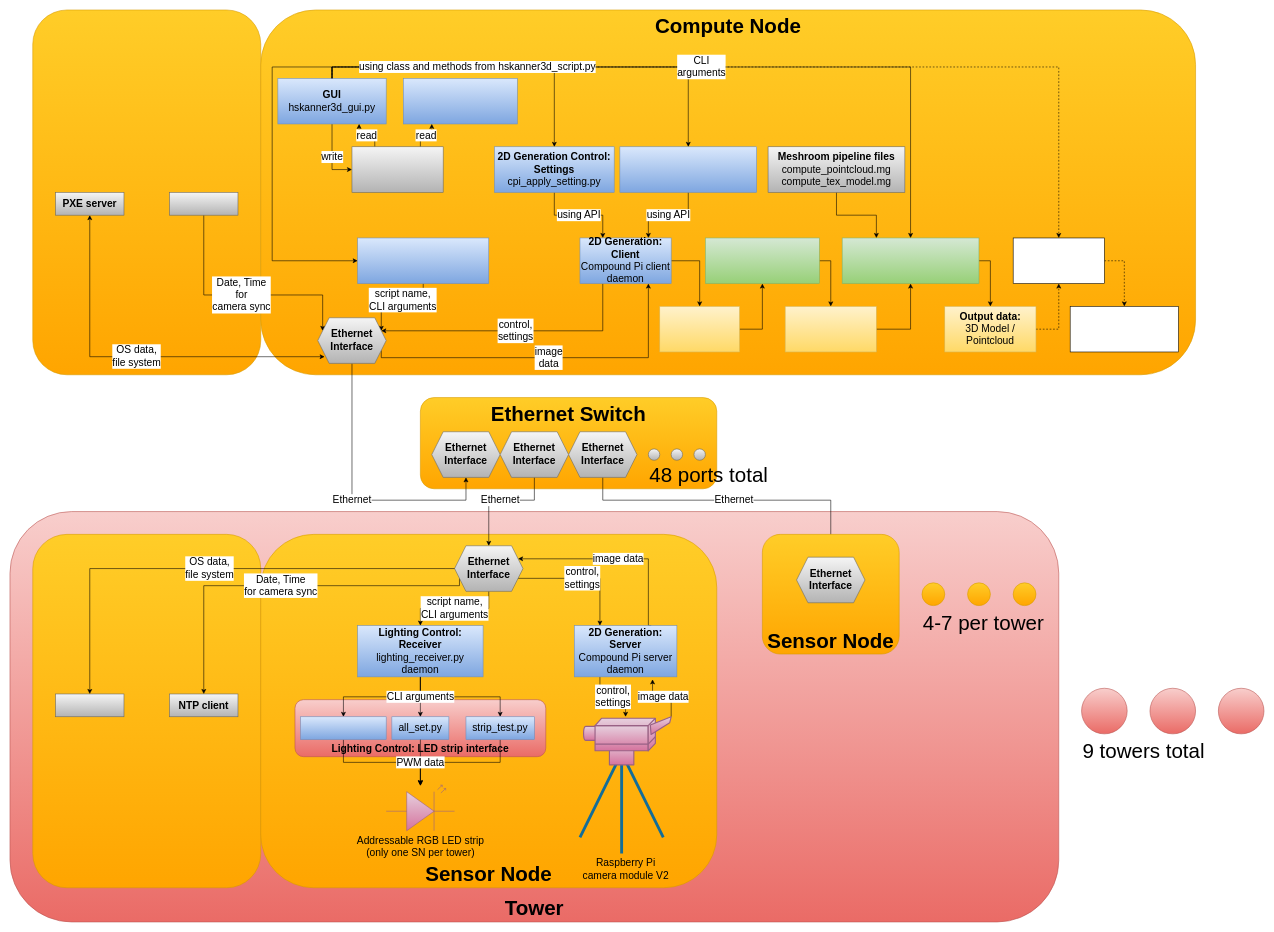
This 1274x932 diagram has some shape labels left out. Each missing label, with the centre of its shape:
"2D Filtering image_filter_script.sh" goes at (762,260).
"2D Generation Control: Taking photos cpi_capture.py" goes at (688,169).
"3D Filtering not implemented" goes at (1058,260).
"3D Generation generate_3d_data_script.sh" goes at (910,260).
"CLI hskanner3d_script.py" goes at (460,101).
"comet_effect.py" goes at (343,728).
"configuration file hskanner3d.config" goes at (397,169).
"Lighting Control: Transmitter lighting_transmitter.py" goes at (423,260).
"NTP server" goes at (203,203).
"Output data: filtered 3D Model / filtered Pointcloud" goes at (1124,329).
"Output data: filtered images" goes at (830,329).
"Output data: images" goes at (699,329).
"PXE client" goes at (89,705).
